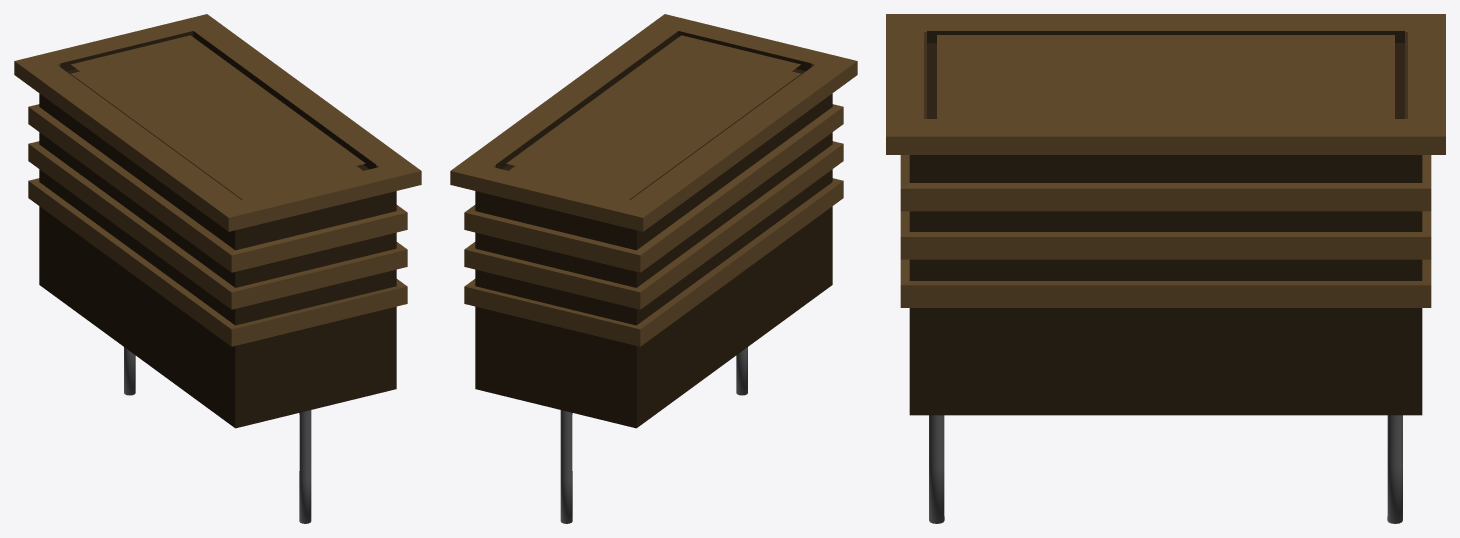
The model's file is Ustation.gltf.
The picture shows the model from 3 angles, left to right: view 1: azimuth 30°, elevation 25°; view 2: azimuth 150°, elevation 25°; view 3: azimuth 270°, elevation 25°; orthographic projection. The views are drawn at different scales.
Visible parts, largest first — view 1: Box, Lid, Arm; view 2: Box, Lid, Arm; view 3: Box, Lid, Arm.
Part boxes in pixels (<box>): Box: <box>14,14,421,428</box>; Lid: <box>60,31,376,200</box>; Arm: <box>124,347,311,523</box>; Box: <box>450,14,857,428</box>; Lid: <box>495,31,811,200</box>; Arm: <box>560,347,747,523</box>; Box: <box>886,14,1445,415</box>; Lid: <box>927,31,1404,118</box>; Arm: <box>929,415,1402,523</box>.
Bounding box in the file's own units: 1.13 × 1.93 × 2.18.
